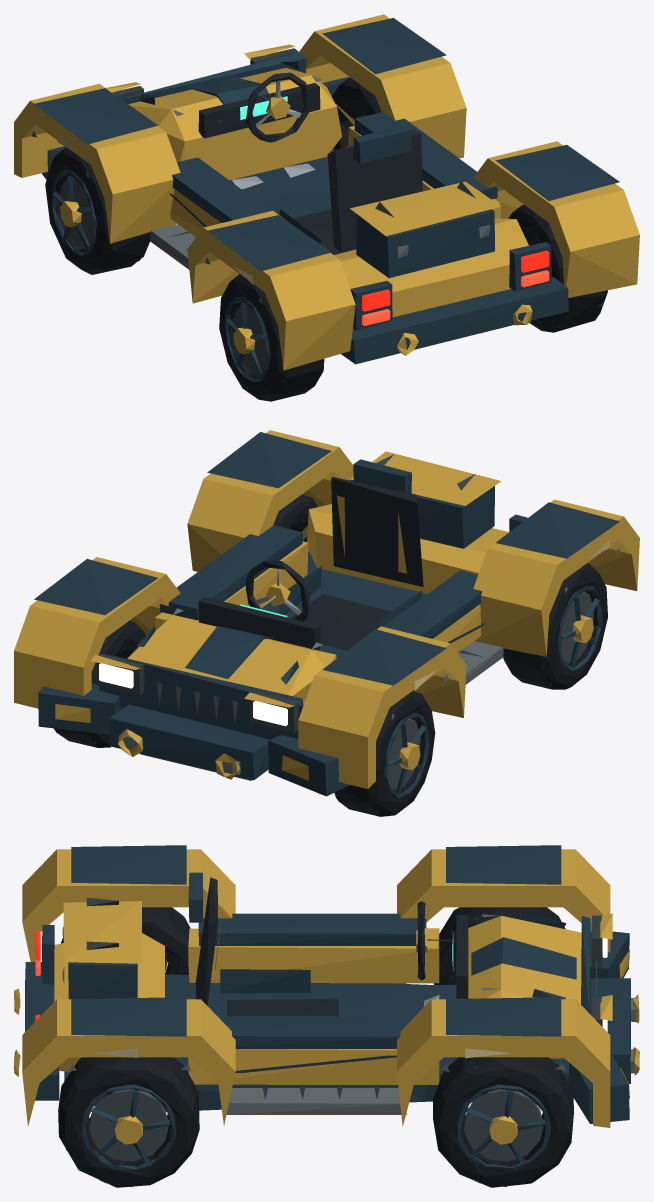
Rendered from bulwark_lod1.glb.
The picture shows the model from 3 angles, top to bottom: view 1: azimuth 30°, elevation 25°; view 2: azimuth 150°, elevation 25°; view 3: azimuth 270°, elevation 25°; orthographic projection. The views are drawn at different scales.
Visible parts, largest first — view 1: body_mesh, wheel_rl, wheel_fl, wheel_rr, steering_wheel, wheel_fr, light_brake_mesh, light_tail_mesh; view 2: body_mesh, wheel_rl, wheel_fl, wheel_fr, steering_wheel, light_head_mesh, wheel_rr; view 3: body_mesh, wheel_rr, wheel_fr, wheel_fl, wheel_rl, steering_wheel.
Part boxes in pixels (box(x1,y1,x2,y2)): body_mesh: box(14, 14, 639, 370); wheel_rl: box(219, 274, 324, 401); wheel_fl: box(45, 147, 150, 274); wheel_rr: box(508, 205, 607, 332); steering_wheel: box(245, 72, 310, 142); wheel_fr: box(332, 78, 381, 150); light_brake_mesh: box(362, 250, 549, 311); light_tail_mesh: box(362, 270, 549, 325); body_mesh: box(14, 430, 639, 796); wheel_rl: box(503, 563, 607, 689); wheel_fl: box(334, 691, 435, 816); wheel_fr: box(53, 621, 145, 747); steering_wheel: box(245, 561, 310, 621); light_head_mesh: box(99, 663, 287, 726); wheel_rr: box(273, 494, 317, 542); body_mesh: box(14, 845, 639, 1127); wheel_rr: box(58, 1057, 199, 1187); wheel_fr: box(433, 1057, 573, 1187); wheel_fl: box(433, 907, 565, 984); wheel_rl: box(61, 907, 190, 974); steering_wheel: box(416, 901, 427, 980).
Bounding box in the file's own units: 1.81 × 0.9717 × 2.52.
